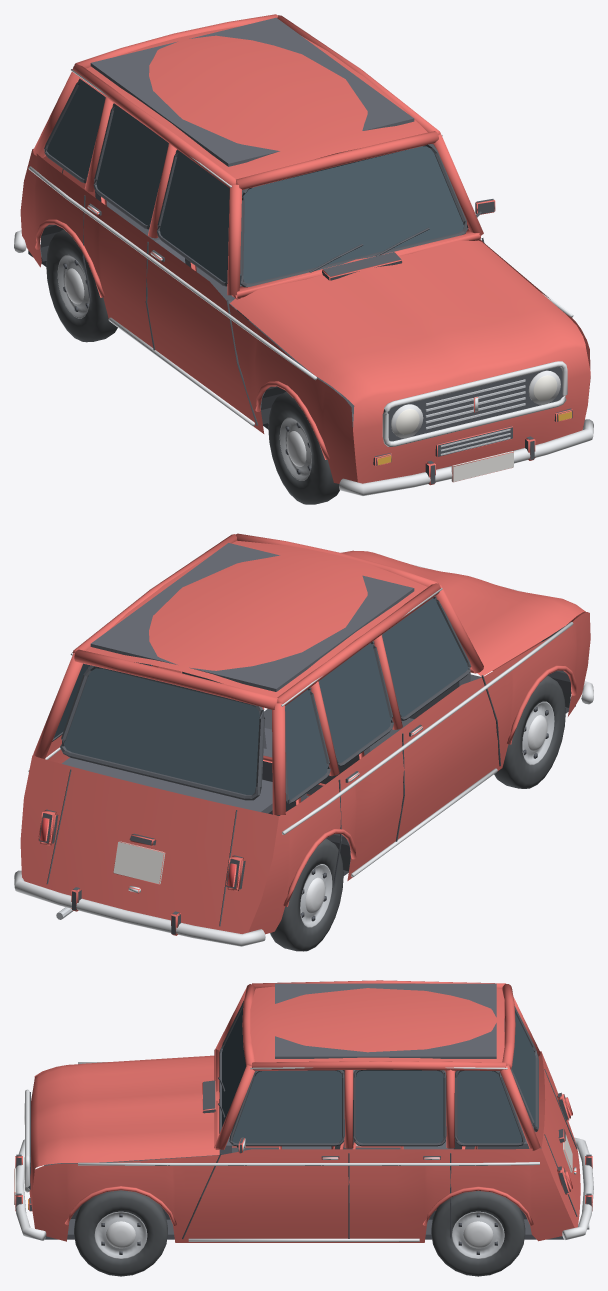
The model's file is cuatrolatas.glb.
3 views of the same model, one above another, from view 1: azimuth 30°, elevation 25°; view 2: azimuth 150°, elevation 25°; view 3: azimuth 270°, elevation 25° (orthographic). The views are drawn at different scales.
Visible parts, largest first — view 1: body, wheel_fr, wheel_br; view 2: body, wheel_br, wheel_fr; view 3: body, wheel_fl, wheel_bl.
Part boxes in pixels (box(x1,y1,x2,y2)): body: box(14, 14, 593, 495); wheel_fr: box(268, 391, 339, 504); wheel_br: box(46, 229, 117, 342); body: box(14, 533, 593, 946); wheel_br: box(270, 838, 343, 951); wheel_fr: box(494, 675, 565, 788); body: box(14, 980, 593, 1242); wheel_fl: box(74, 1190, 167, 1276); wheel_bl: box(431, 1191, 525, 1276).
Bounding box in the file's own units: 1.72 × 1.54 × 3.77.
